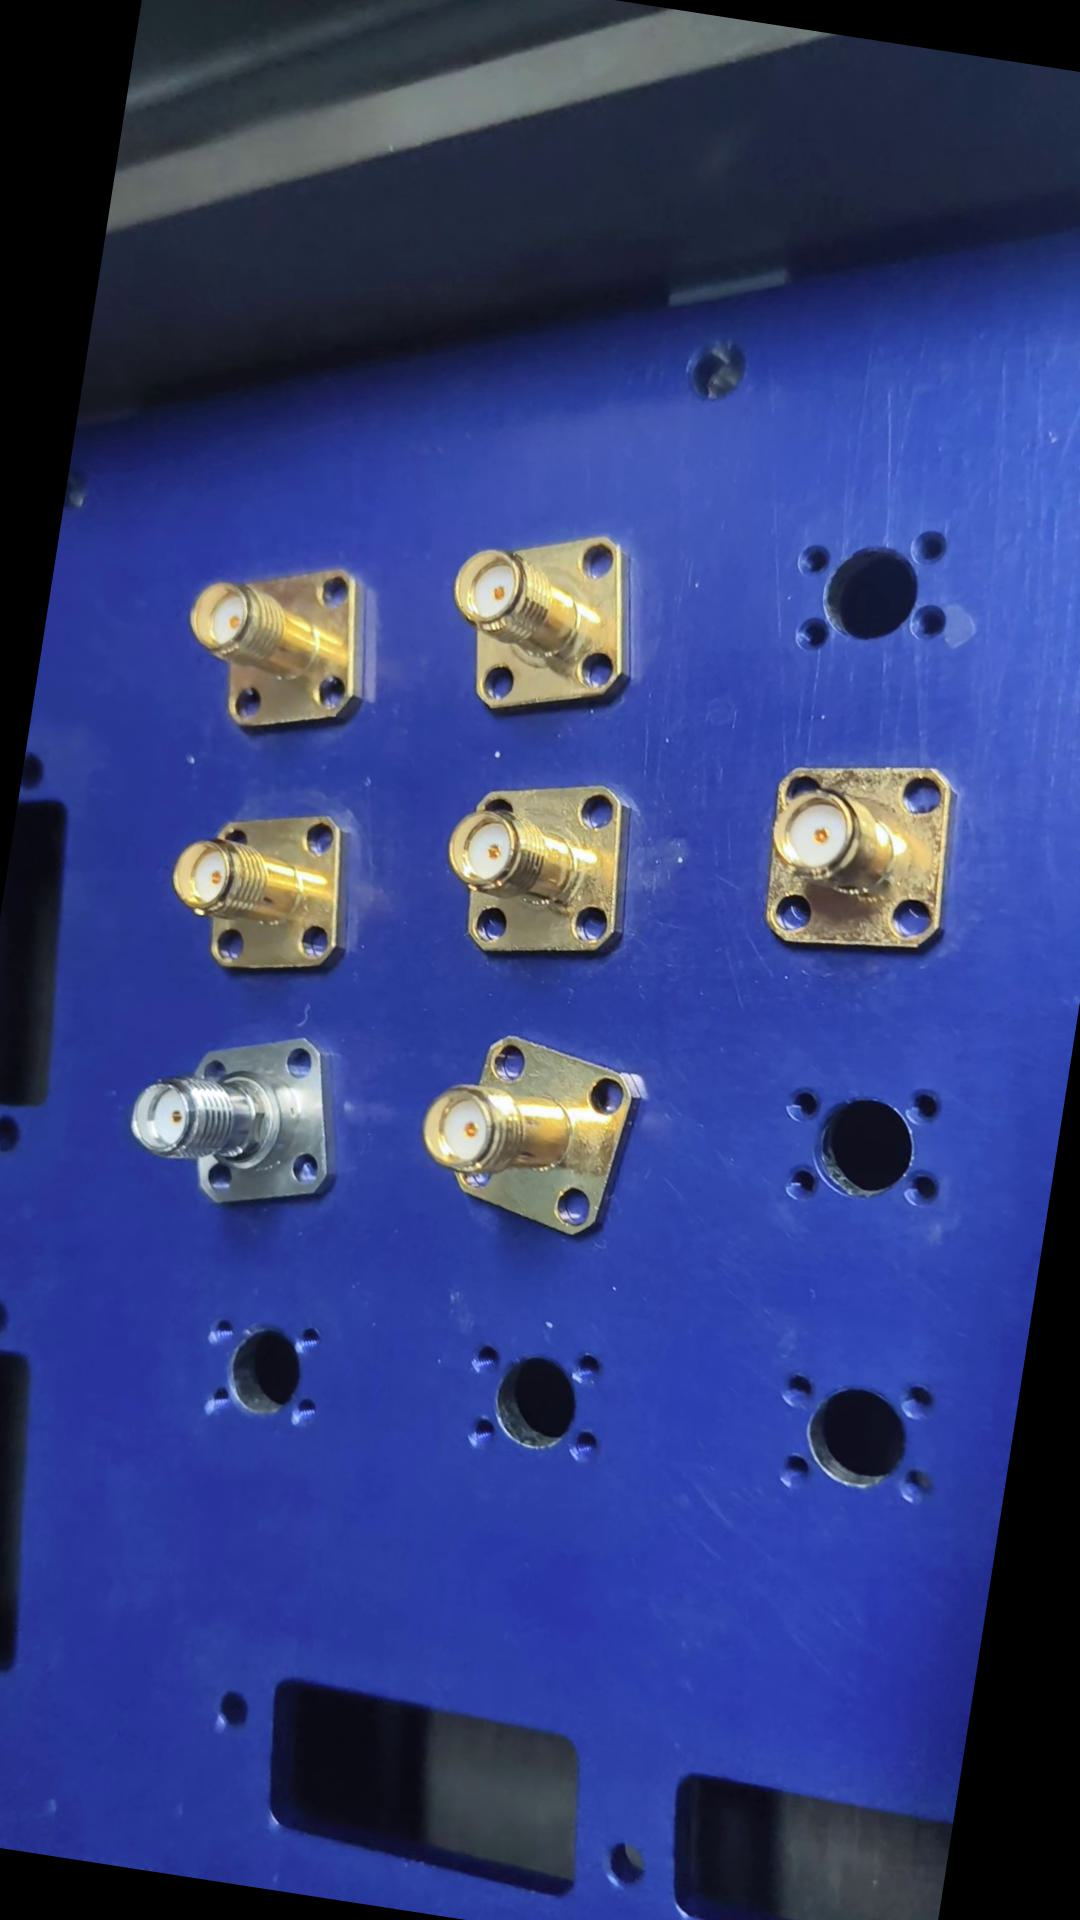SMA: (407, 1019, 655, 1251), (440, 512, 662, 735), (756, 742, 975, 965), (433, 761, 654, 975), (124, 1015, 357, 1215), (175, 549, 389, 752), (164, 796, 371, 984)
